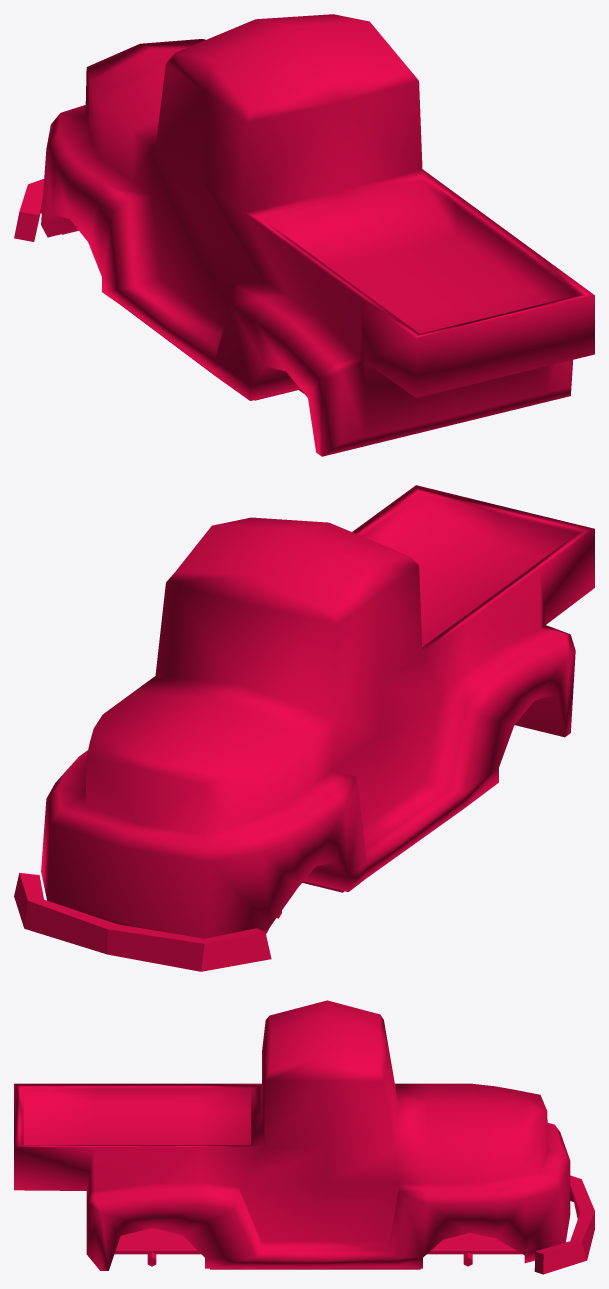
File: Car_Truck_Body.fbx
The picture shows the model from 3 angles, top to bottom: view 1: azimuth 30°, elevation 25°; view 2: azimuth 150°, elevation 25°; view 3: azimuth 270°, elevation 25°; orthographic projection. The views are drawn at different scales.
Parts seen in each view (by area): view 1: Car_Truck_Body; view 2: Car_Truck_Body; view 3: Car_Truck_Body.
Boxes of the visible parts, x1,y1,x2,y2 form: Car_Truck_Body: (14,14,594,456); Car_Truck_Body: (14,485,594,971); Car_Truck_Body: (14,1000,594,1274).
Bounding box in the file's own units: 109 × 120 × 291.
